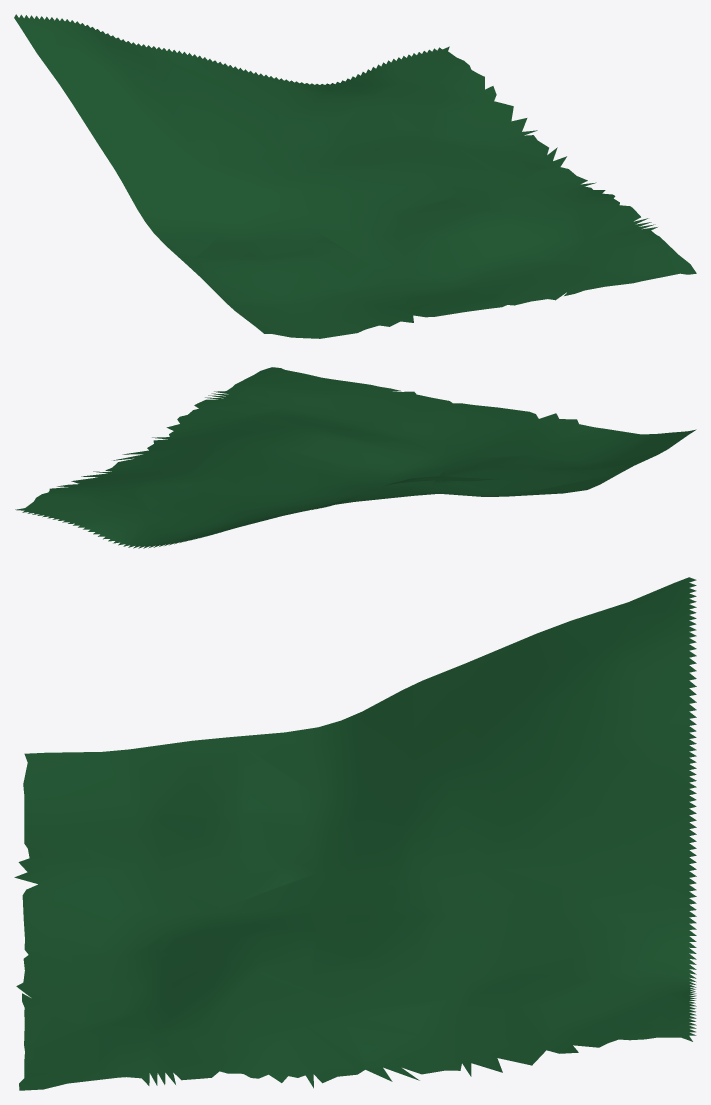
Rendered from payo_land_xm3_y2_lod2.glb.
3 views of the same model, one above another, from view 1: azimuth 30°, elevation 25°; view 2: azimuth 150°, elevation 25°; view 3: azimuth 270°, elevation 25° (orthographic). The views are drawn at different scales.
Parts seen in each view (by area): view 1: payo_land_xm3_y2; view 2: payo_land_xm3_y2; view 3: payo_land_xm3_y2.
Part boxes in pixels (x1,y1,x2,y2): payo_land_xm3_y2: (14, 14, 696, 338); payo_land_xm3_y2: (15, 367, 696, 548); payo_land_xm3_y2: (14, 577, 696, 1090).
Bounding box in the file's own units: 261 × 99.35 × 262.
